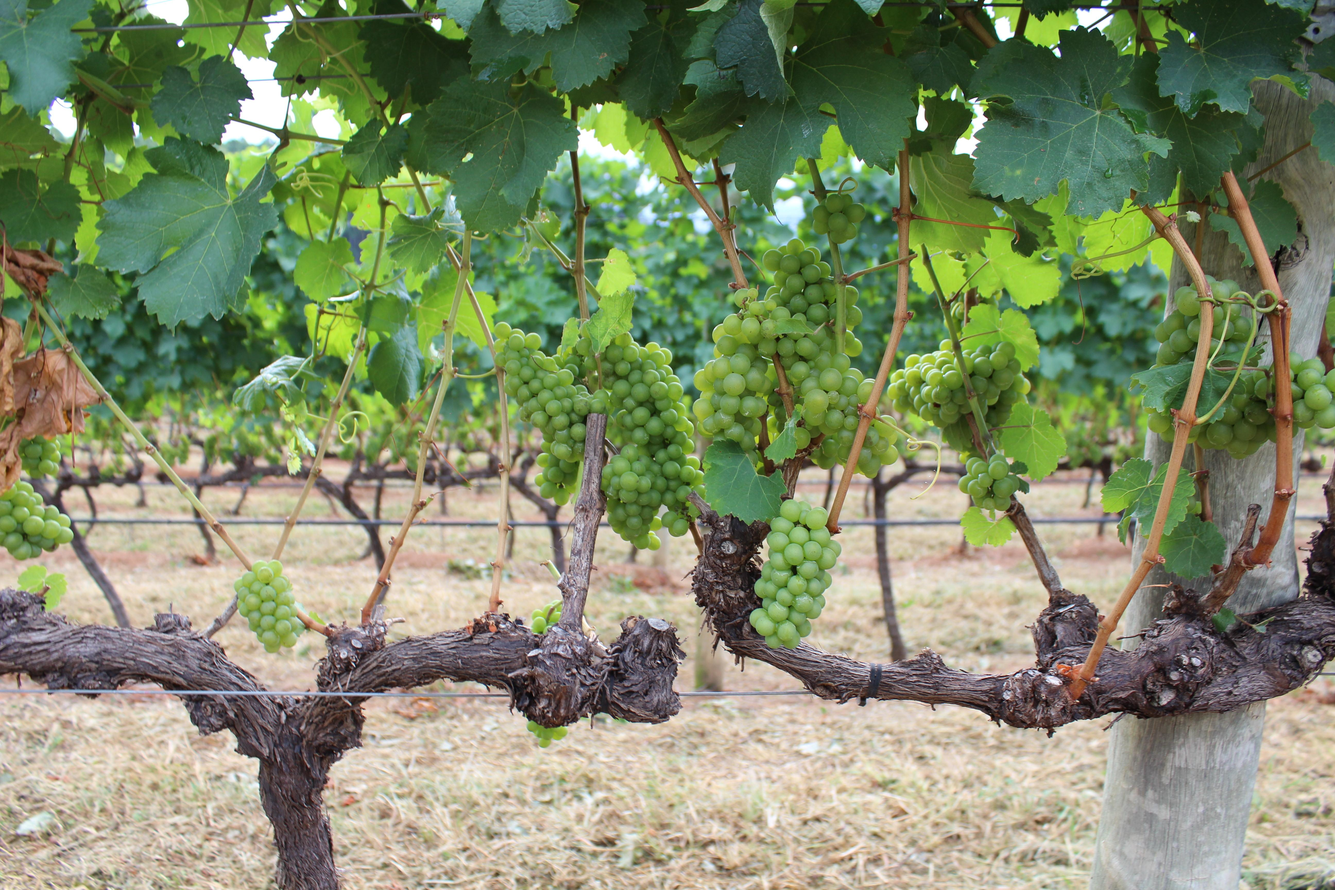leaf: (972, 29, 1169, 216), (98, 138, 278, 326), (422, 79, 578, 232), (791, 0, 916, 168), (1113, 54, 1245, 195), (1157, 0, 1306, 115), (468, 0, 646, 92), (720, 98, 828, 212), (0, 0, 92, 116), (615, 0, 694, 120), (359, 19, 469, 105), (910, 146, 998, 252), (151, 56, 253, 144), (714, 0, 789, 102), (704, 441, 785, 523), (0, 169, 81, 243), (961, 303, 1039, 370), (1000, 402, 1066, 480), (367, 325, 422, 405), (387, 206, 452, 272), (342, 120, 407, 186), (1160, 515, 1227, 578), (48, 264, 121, 320), (293, 237, 354, 301), (0, 105, 59, 169), (1248, 179, 1297, 256), (585, 290, 635, 353), (493, 0, 578, 33), (1101, 459, 1153, 512), (1210, 213, 1254, 266), (960, 506, 1015, 546), (764, 405, 802, 462), (596, 248, 636, 298), (1310, 102, 1335, 164), (437, 0, 485, 31), (374, 0, 412, 14), (0, 126, 3, 132), (895, 140, 899, 144), (0, 141, 3, 146), (0, 137, 3, 140), (822, 128, 823, 132), (947, 294, 949, 296), (0, 161, 3, 162), (785, 171, 788, 172), (734, 19, 735, 21), (420, 113, 421, 113)
